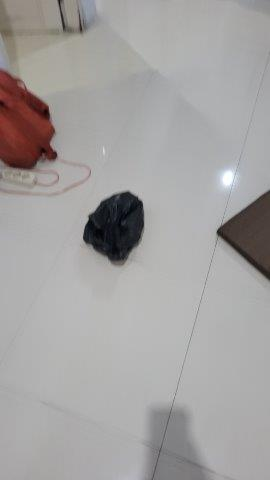plastik: (84, 189, 146, 267)
